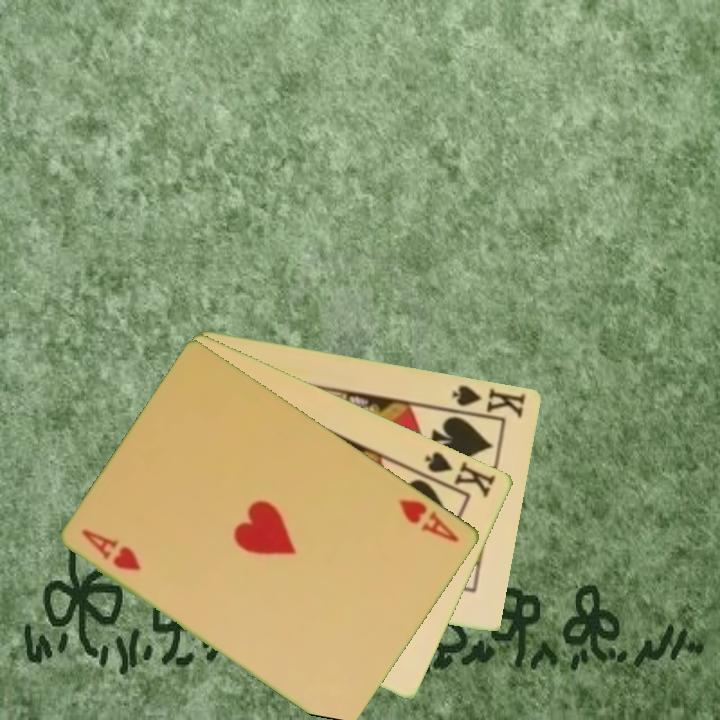Ah: (396, 495, 463, 546), (79, 525, 145, 574)
Ks: (415, 447, 499, 500), (445, 381, 529, 421)
